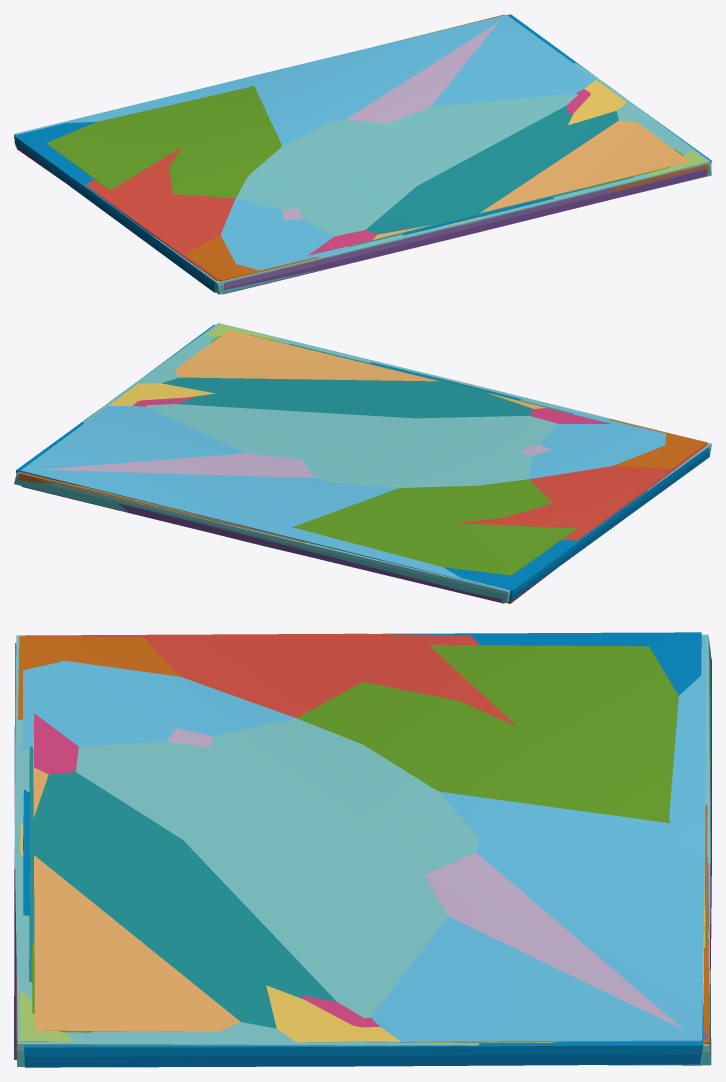
Rendered from SM_Paper_Stack.fbx.
The picture shows the model from 3 angles, top to bottom: view 1: azimuth 30°, elevation 25°; view 2: azimuth 150°, elevation 25°; view 3: azimuth 270°, elevation 25°; orthographic projection. The views are drawn at different scales.
Parts seen in each view (by area): view 1: Paper_Stack_09, Paper_Stack_013, Paper_Stack_08, Paper_Stack_05, Paper_Stack_012, Paper_Stack_03, Paper_Stack_02, Paper_Stack_01, Paper_Stack_010, Paper_Stack_04, Paper_Stack_014, Paper_Stack_07; view 2: Paper_Stack_013, Paper_Stack_09, Paper_Stack_08, Paper_Stack_05, Paper_Stack_012, Paper_Stack_03, Paper_Stack_01, Paper_Stack_010, Paper_Stack_02, Paper_Stack_04, Paper_Stack_014, Paper_Stack_07 (+1 smaller); view 3: Paper_Stack_09, Paper_Stack_013, Paper_Stack_08, Paper_Stack_05, Paper_Stack_01, Paper_Stack_012, Paper_Stack_03, Paper_Stack_010, Paper_Stack_04, Paper_Stack_014, Paper_Stack_07, Paper_Stack_02 (+1 smaller).
Boxes of the visible parts, left/top/right/bottom form: Paper_Stack_09: left=17, top=15, right=595, bottom=270; Paper_Stack_013: left=14, top=63, right=711, bottom=294; Paper_Stack_08: left=46, top=86, right=683, bottom=198; Paper_Stack_05: left=348, top=106, right=632, bottom=247; Paper_Stack_012: left=340, top=120, right=690, bottom=248; Paper_Stack_03: left=16, top=147, right=235, bottom=280; Paper_Stack_02: left=222, top=15, right=706, bottom=294; Paper_Stack_01: left=14, top=14, right=711, bottom=292; Paper_Stack_010: left=282, top=22, right=498, bottom=220; Paper_Stack_04: left=185, top=14, right=708, bottom=281; Paper_Stack_014: left=150, top=80, right=626, bottom=292; Paper_Stack_07: left=308, top=89, right=590, bottom=255; Paper_Stack_013: left=14, top=323, right=711, bottom=602; Paper_Stack_09: left=21, top=406, right=666, bottom=602; Paper_Stack_08: left=210, top=335, right=576, bottom=575; Paper_Stack_05: left=161, top=344, right=572, bottom=418; Paper_Stack_012: left=174, top=330, right=568, bottom=413; Paper_Stack_03: left=454, top=444, right=707, bottom=603; Paper_Stack_01: left=16, top=324, right=709, bottom=601; Paper_Stack_010: left=41, top=444, right=551, bottom=477; Paper_Stack_02: left=21, top=472, right=502, bottom=602; Paper_Stack_04: left=18, top=419, right=707, bottom=603; Paper_Stack_014: left=19, top=379, right=649, bottom=515; Paper_Stack_07: left=133, top=397, right=611, bottom=423; Paper_Stack_09: left=23, top=636, right=706, bottom=1042; Paper_Stack_013: left=14, top=634, right=711, bottom=1066; Paper_Stack_08: left=32, top=645, right=678, bottom=1032; Paper_Stack_05: left=29, top=746, right=336, bottom=1028; Paper_Stack_01: left=23, top=632, right=703, bottom=1067; Paper_Stack_012: left=33, top=739, right=240, bottom=1031; Paper_Stack_03: left=25, top=633, right=701, bottom=1065; Paper_Stack_010: left=167, top=728, right=683, bottom=1029; Paper_Stack_04: left=16, top=636, right=710, bottom=1060; Paper_Stack_014: left=20, top=822, right=704, bottom=1043; Paper_Stack_07: left=34, top=713, right=379, bottom=1027; Paper_Stack_02: left=14, top=643, right=711, bottom=1059.
Bounding box in the file's own units: 94.55 × 5.41 × 67.4.
